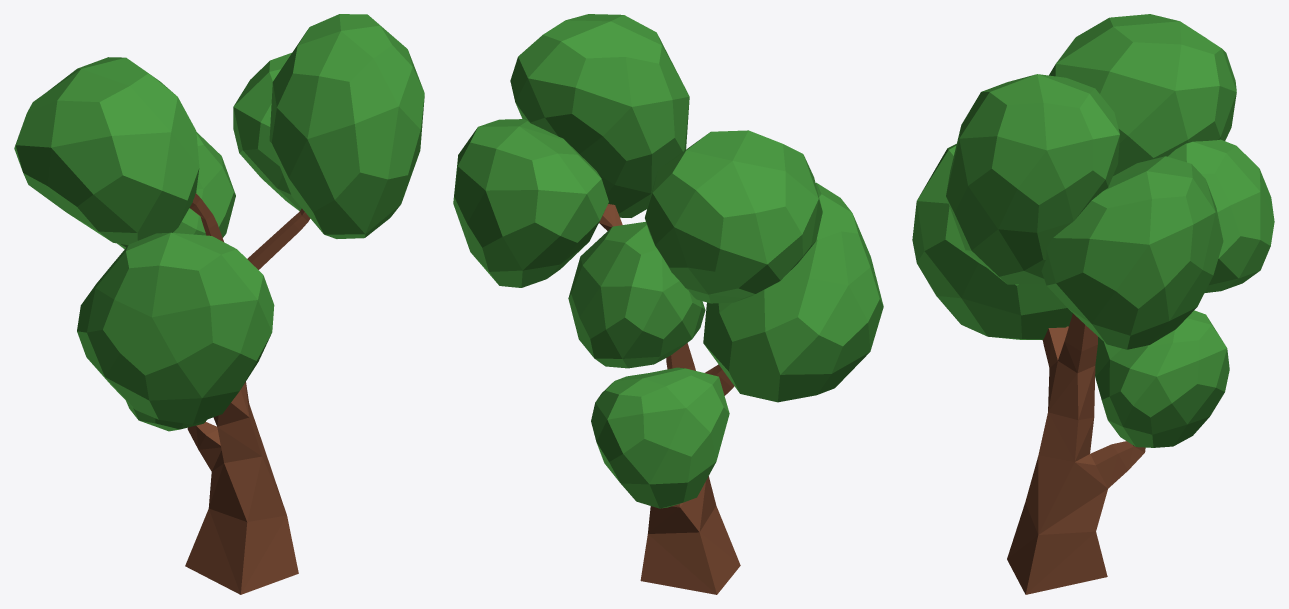
Rendered from Dub.fbx.
3 renders of one model, left to right at view 1: azimuth 30°, elevation 25°; view 2: azimuth 150°, elevation 25°; view 3: azimuth 270°, elevation 25°, orthographic. The views are drawn at different scales.
Visible parts, largest first — view 1: Dub; view 2: Dub; view 3: Dub.
Part boxes in pixels (bbox=[...]): Dub: bbox=[14, 14, 424, 594]; Dub: bbox=[453, 14, 883, 594]; Dub: bbox=[912, 14, 1274, 594].
Bounding box in the file's own units: 1050 × 1484 × 894.
